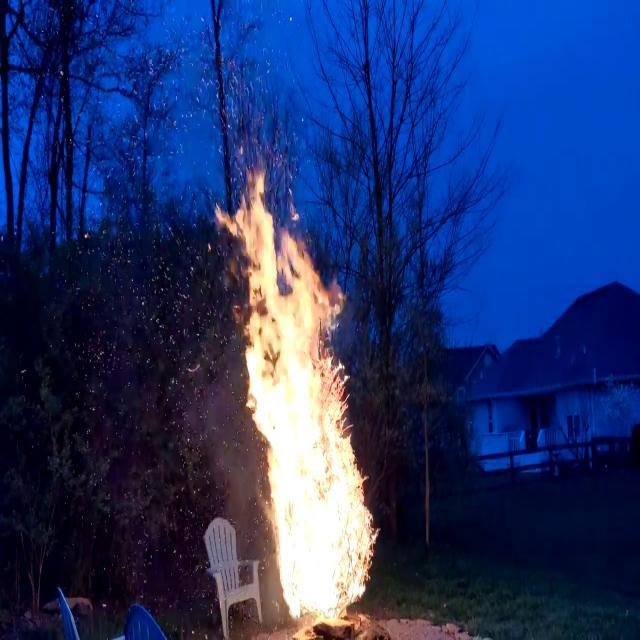Fire: (214, 159, 382, 621)
